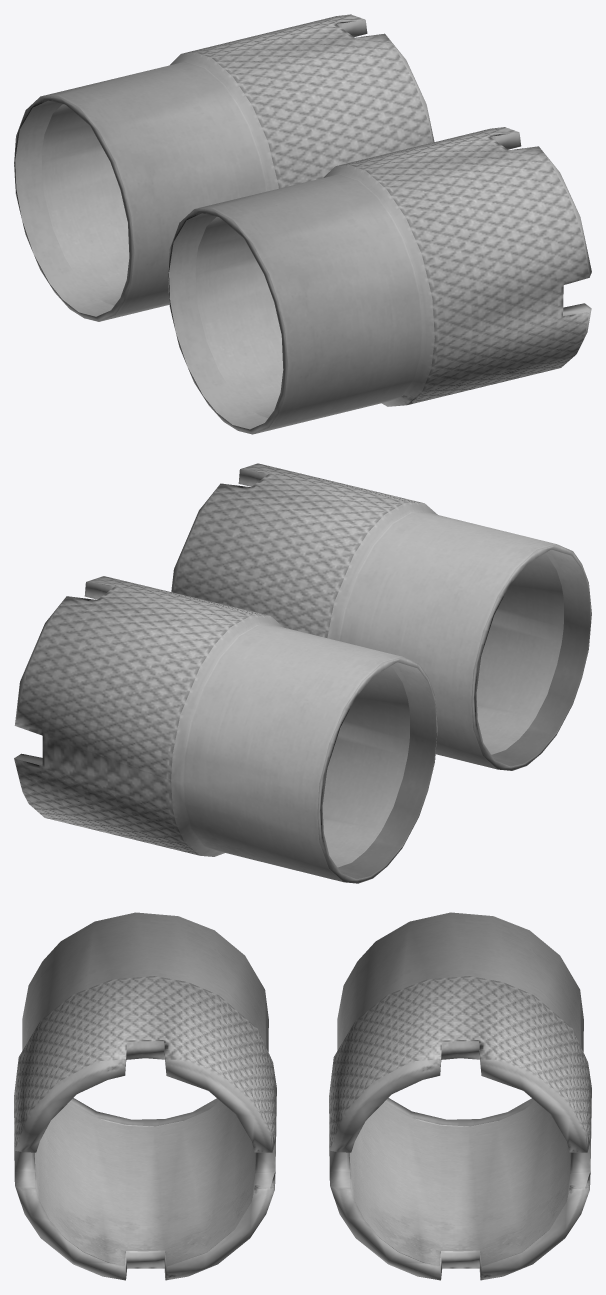
File: ChokeFull.fbx
The picture shows the model from 3 angles, top to bottom: view 1: azimuth 30°, elevation 25°; view 2: azimuth 150°, elevation 25°; view 3: azimuth 270°, elevation 25°; orthographic projection. The views are drawn at different scales.
Parts seen in each view (by area): view 1: ChokeFull; view 2: ChokeFull; view 3: ChokeFull.
Boxes of the visible parts, x1,y1,x2,y2 form: ChokeFull: [14, 14, 591, 434]; ChokeFull: [14, 463, 591, 883]; ChokeFull: [14, 912, 591, 1280].
Size of the model in its own units: 0.0172 by 0.012 by 0.0274.
